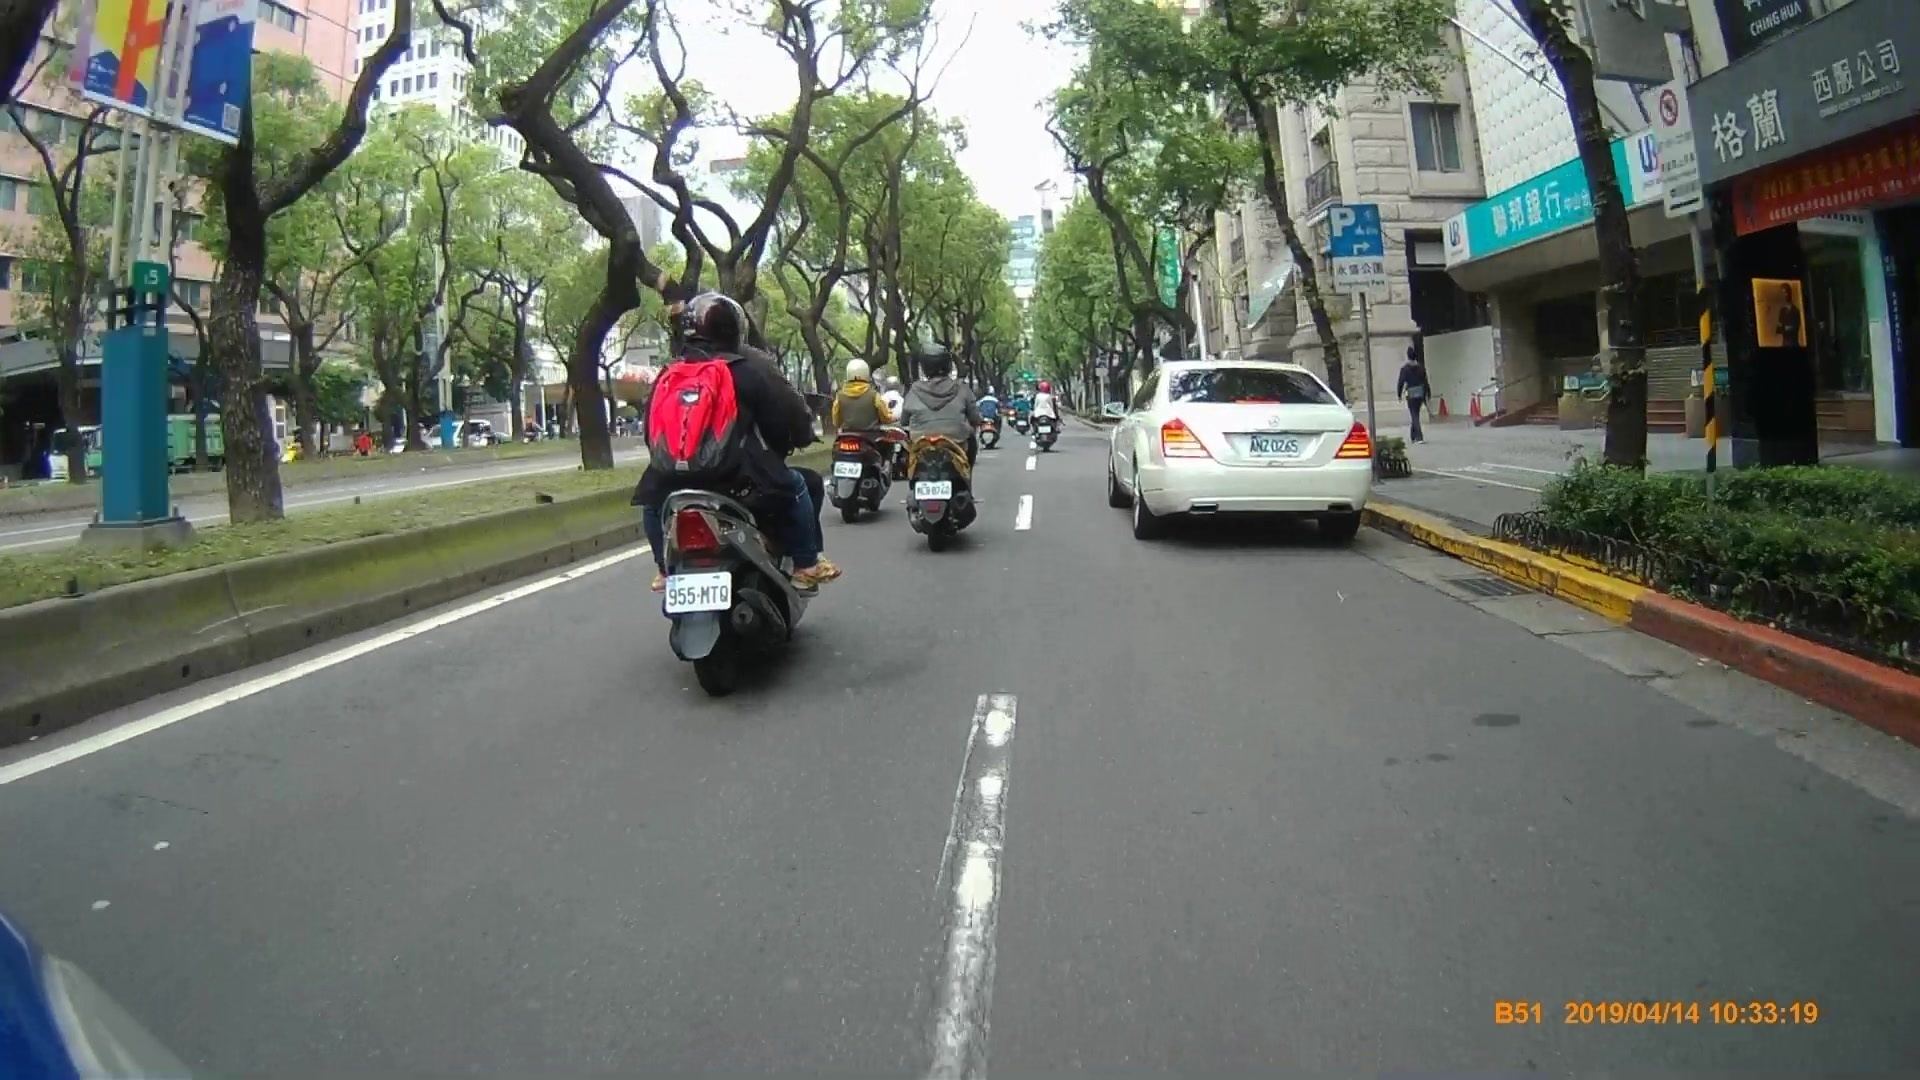License_plate: (665, 573, 732, 612), (1241, 433, 1303, 460), (910, 482, 955, 499), (833, 459, 864, 477)
